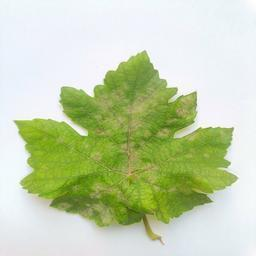Powdery-Mildew: (115, 82, 161, 131)
